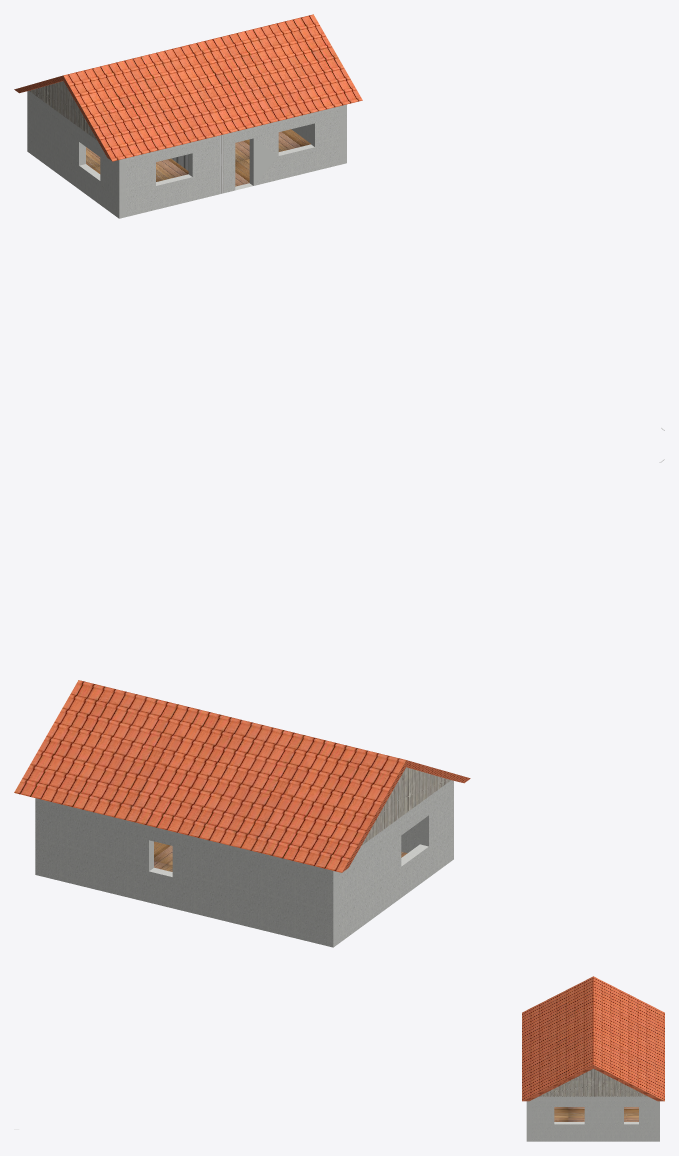
Rendered from Farmhaus_TexturIncluded2.FBX.
The picture shows the model from 3 angles, top to bottom: view 1: azimuth 30°, elevation 25°; view 2: azimuth 150°, elevation 25°; view 3: azimuth 270°, elevation 25°; orthographic projection. The views are drawn at different scales.
Visible parts, largest first — view 1: Prism001, Box002, Box004, Plane001, Prism002, Box003; view 2: Prism001, Box001, Box004, Prism002; view 3: Prism001, Box003, Prism003, Plane001, Box002.
Boxes of the visible parts, x1,y1,x2,y2 form: Prism001: (14, 14, 362, 161); Box002: (126, 106, 342, 216); Box004: (27, 91, 125, 218); Plane001: (86, 129, 310, 186); Prism002: (29, 81, 97, 140); Box003: (291, 104, 346, 164); Prism001: (14, 680, 470, 872); Box001: (35, 798, 338, 947); Box004: (324, 780, 453, 947); Prism002: (361, 767, 450, 845); Prism001: (522, 976, 664, 1101); Box003: (532, 1096, 659, 1141); Prism003: (539, 1069, 647, 1096); Plane001: (554, 1107, 638, 1121); Box002: (526, 1100, 532, 1141).
Size of the model in its own units: 433 by 185 by 1344.
Materials: 7 (6 with a texture image).
